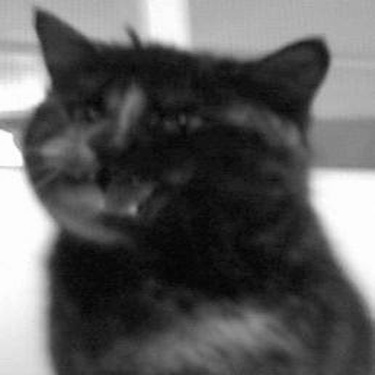cat: (23, 5, 369, 372)
